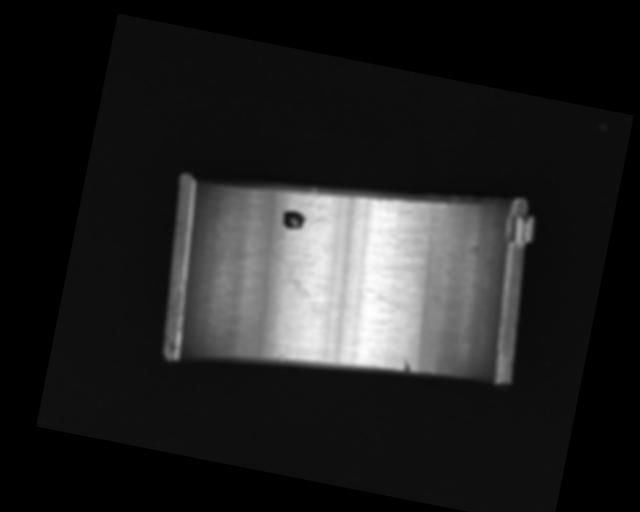blot: (262, 247, 319, 298), (279, 208, 307, 233)
bruise: (401, 358, 412, 373), (276, 354, 286, 363)
